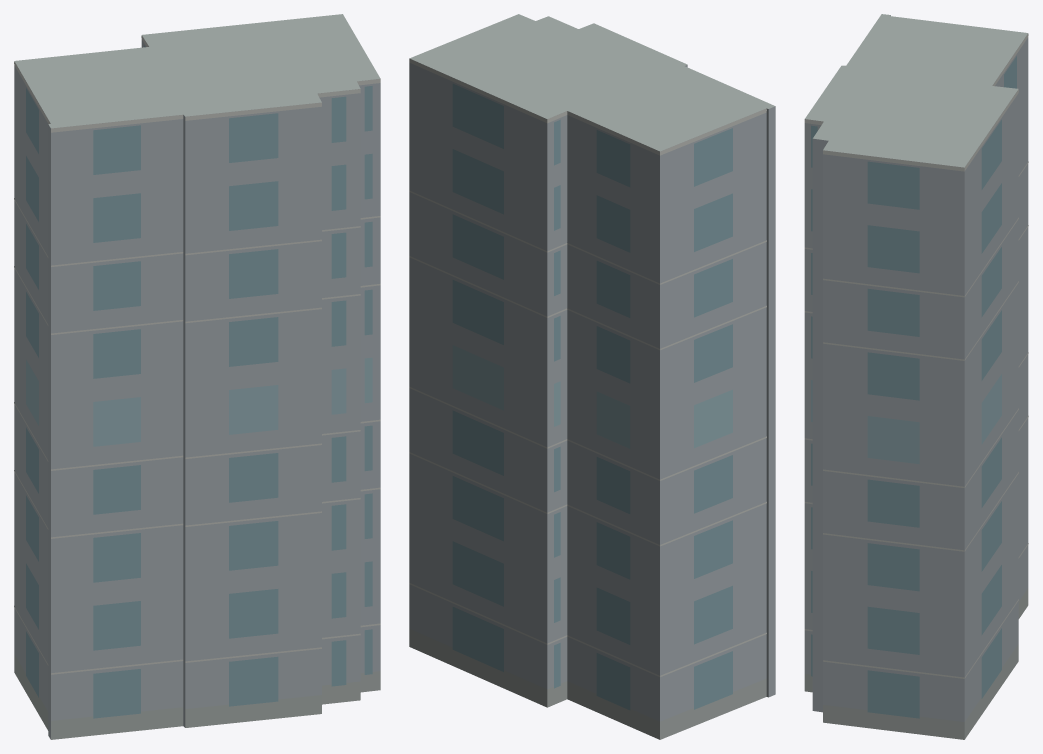
The model's file is survey-upis-32874510.glb.
3 views of the same model, side by side, from view 1: azimuth 30°, elevation 25°; view 2: azimuth 150°, elevation 25°; view 3: azimuth 270°, elevation 25° (orthographic). The views are drawn at different scales.
Parts seen in each view (by area): view 1: survey-upis-32874510.tmp; view 2: survey-upis-32874510.tmp; view 3: survey-upis-32874510.tmp.
Part boxes in pixels (box(x1,y1,x2,y2)): survey-upis-32874510.tmp: box(14, 14, 380, 739); survey-upis-32874510.tmp: box(409, 14, 775, 739); survey-upis-32874510.tmp: box(804, 14, 1028, 739).
Bounding box in the file's own units: 19.99 × 34.7 × 12.31.
